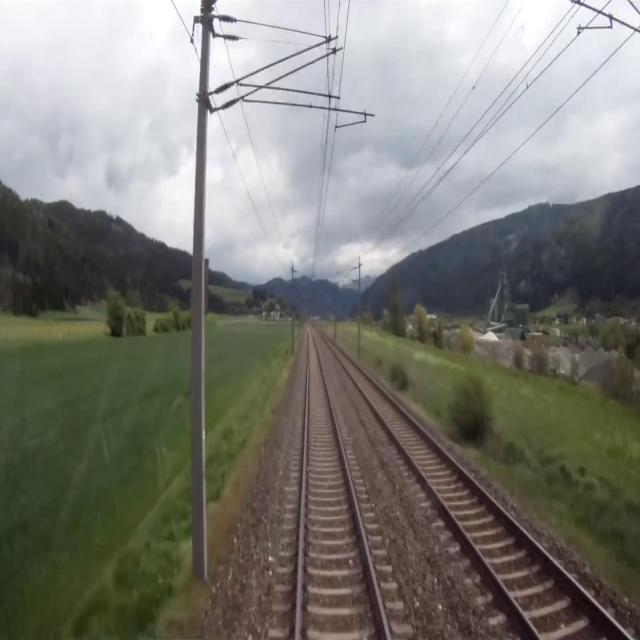rail-track: (325, 337, 625, 639), (301, 329, 385, 639)
